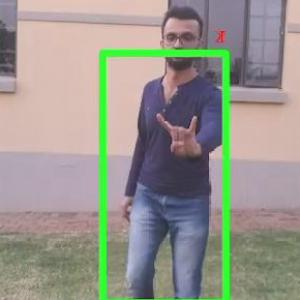takeoff-hand: (155, 98, 212, 162)
